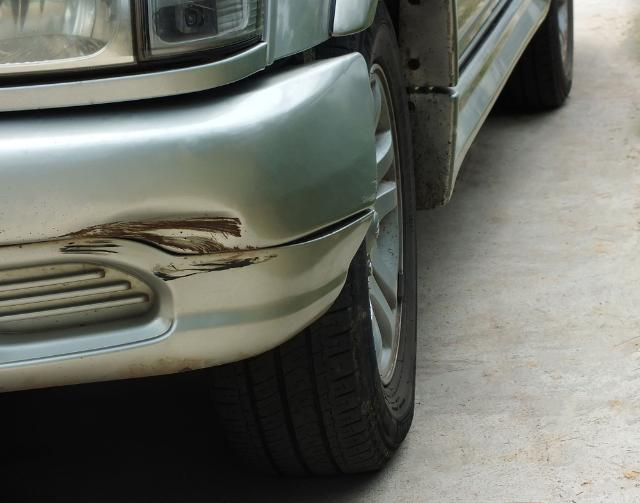dent: (89, 199, 252, 254)
scratch: (151, 251, 283, 283), (49, 225, 125, 259)
